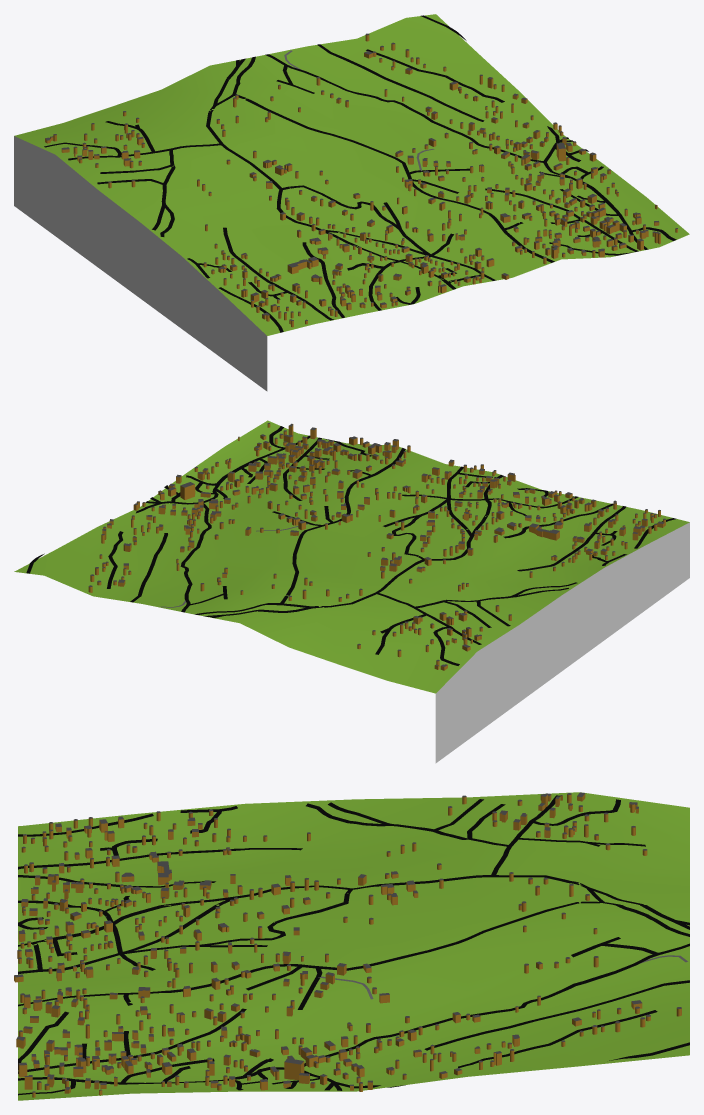
The model's file is tile_00_06.glb.
3 renders of one model, top to bottom at view 1: azimuth 30°, elevation 25°; view 2: azimuth 150°, elevation 25°; view 3: azimuth 270°, elevation 25°, orthographic. The views are drawn at different scales.
Visible parts, largest first — view 1: Terrain_00_06, Ub_small.osm_buildings_00_06, Ub_small.osm_roads_residential_00_06; view 2: Terrain_00_06, Ub_small.osm_buildings_00_06, Ub_small.osm_roads_residential_00_06; view 3: Terrain_00_06, Ub_small.osm_buildings_00_06, Ub_small.osm_roads_residential_00_06.
Part boxes in pixels (x1=…): Terrain_00_06: x1=14, y1=14, x2=689, y2=391; Ub_small.osm_buildings_00_06: x1=45, y1=33, x2=677, y2=327; Ub_small.osm_roads_residential_00_06: x1=44, y1=15, x2=676, y2=332; Terrain_00_06: x1=14, y1=420, x2=689, y2=763; Ub_small.osm_buildings_00_06: x1=88, y1=423, x2=665, y2=670; Ub_small.osm_roads_residential_00_06: x1=26, y1=426, x2=676, y2=665; Terrain_00_06: x1=18, y1=792, x2=689, y2=1100; Ub_small.osm_buildings_00_06: x1=14, y1=792, x2=681, y2=1097; Ub_small.osm_roads_residential_00_06: x1=18, y1=795, x2=689, y2=1095.
Size of the model in its own units: 896 by 197 by 936.
